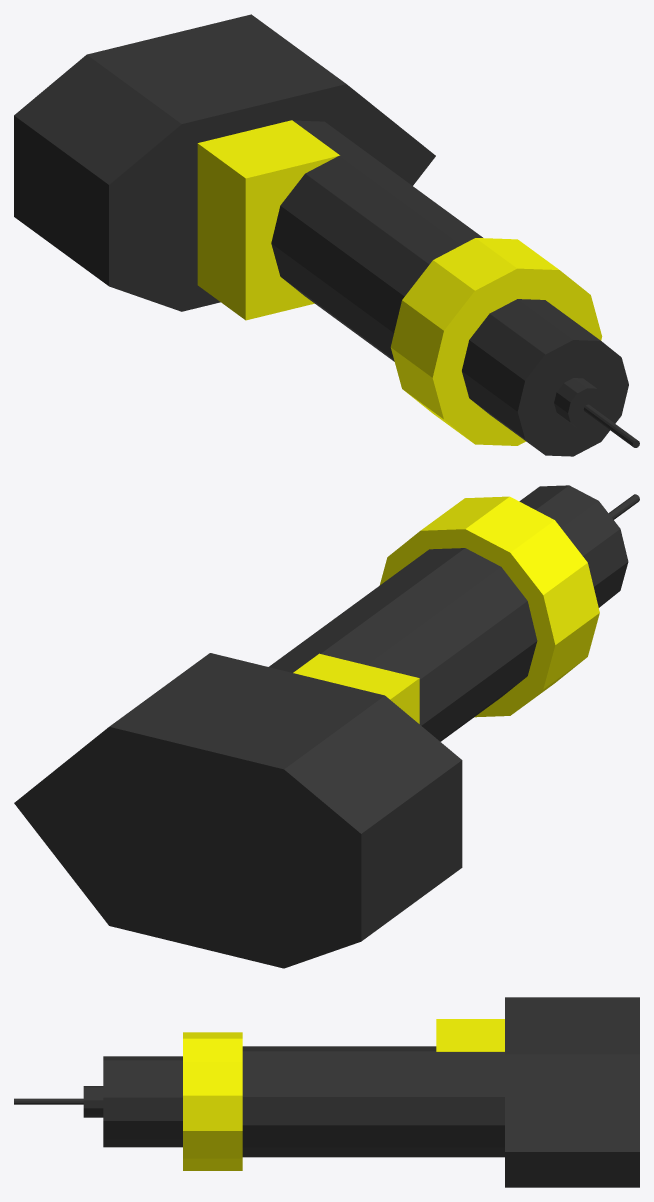
Rendered from nil_link_mesh.dae.
3 renders of one model, top to bottom at view 1: azimuth 30°, elevation 25°; view 2: azimuth 150°, elevation 25°; view 3: azimuth 270°, elevation 25°, orthographic. The views are drawn at different scales.
Visible parts, largest first — view 1: nil_link (×6); view 2: nil_link (×5); view 3: nil_link (×7).
Boxes of the visible parts, box(x1,y1,x2,y2) form: nil_link (×6): box(14, 14, 628, 456); nil_link (×5): box(14, 485, 628, 968); nil_link (×7): box(14, 997, 639, 1187).
Size of the model in its own units: 0.135 by 0.074 by 0.315.
